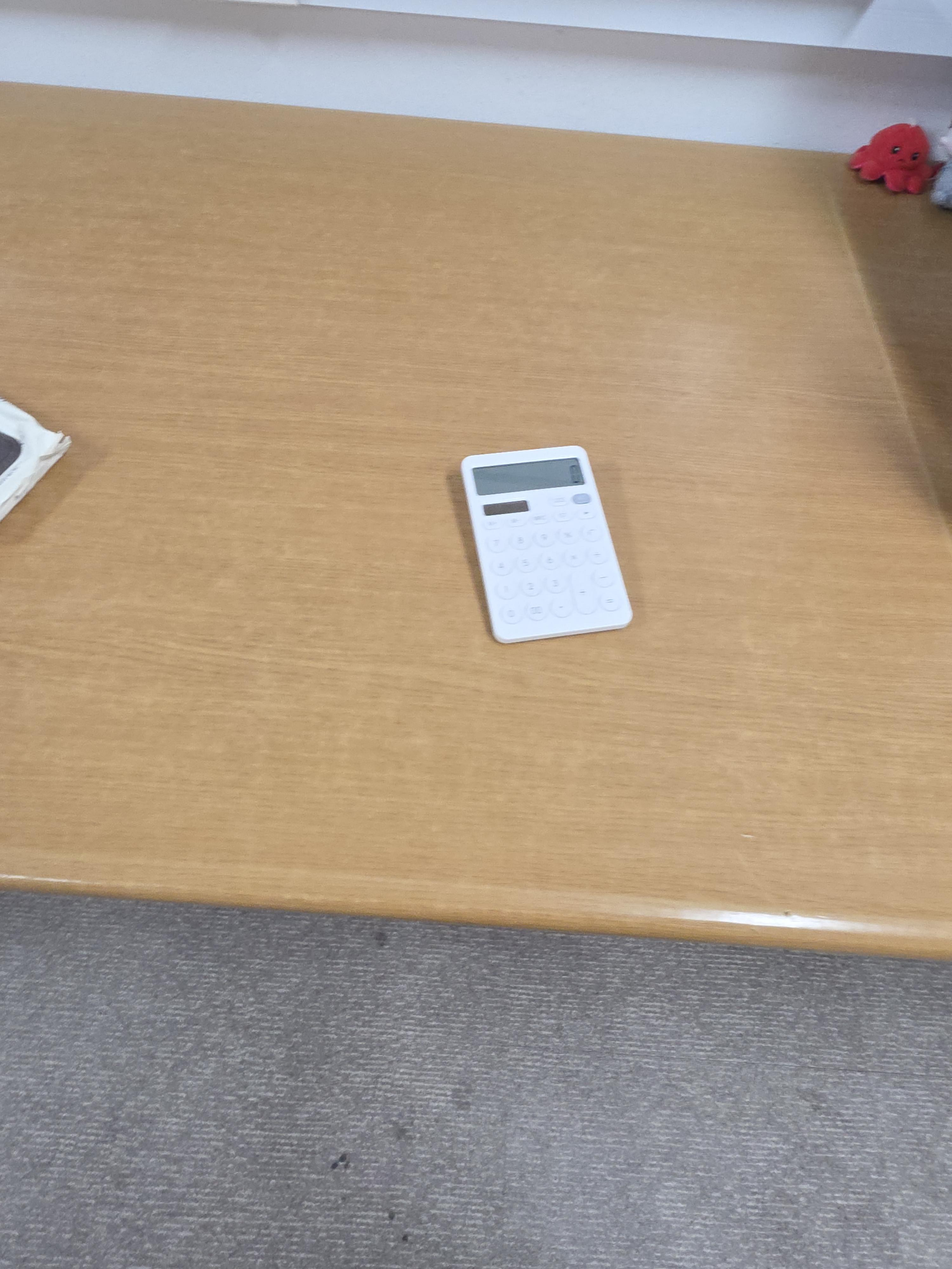calculator: (460, 445, 633, 644)
